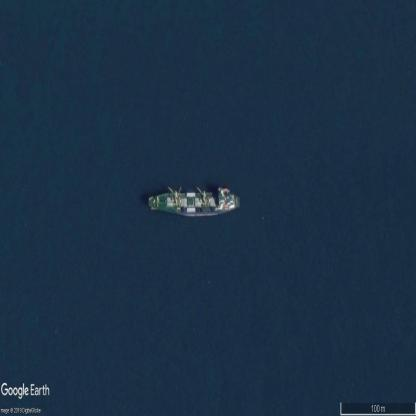ship: (146, 186, 240, 216)
